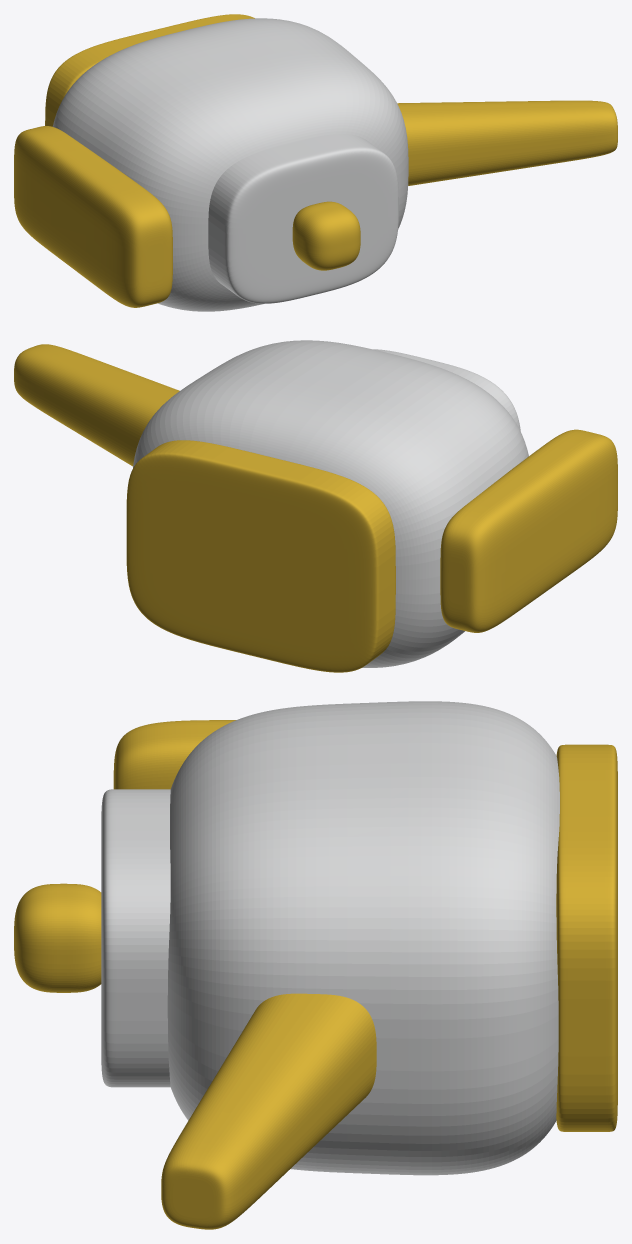
The model's file is ceramic_teapot_sq.glb.
The picture shows the model from 3 angles, top to bottom: view 1: azimuth 30°, elevation 25°; view 2: azimuth 150°, elevation 25°; view 3: azimuth 270°, elevation 25°; orthographic projection. The views are drawn at different scales.
Visible parts, largest first — view 1: superquadric_0, superquadric_1, superquadric_4, superquadric_3, superquadric_2, superquadric_5; view 2: superquadric_5, superquadric_0, superquadric_4, superquadric_3, superquadric_1; view 3: superquadric_0, superquadric_3, superquadric_5, superquadric_1, superquadric_2, superquadric_4.
Part boxes in pixels (x1,y1,x2,y2): superquadric_0: (52,18,408,311); superquadric_1: (208,134,398,303); superquadric_4: (14,126,172,307); superquadric_3: (397,100,617,185); superquadric_2: (292,201,360,270); superquadric_5: (45,14,254,126); superquadric_5: (126,440,395,672); superquadric_0: (133,340,528,667); superquadric_4: (440,429,617,632); superquadric_3: (14,344,179,466); superquadric_1: (373,349,520,431); superquadric_0: (167,701,559,1175); superquadric_3: (161,993,376,1229); superquadric_5: (556,744,617,1131); superquadric_1: (101,789,170,1087); superquadric_2: (14,883,101,992); superquadric_4: (113,720,235,789).
Size of the model in its own units: 1 by 0.4165 by 0.6277.
